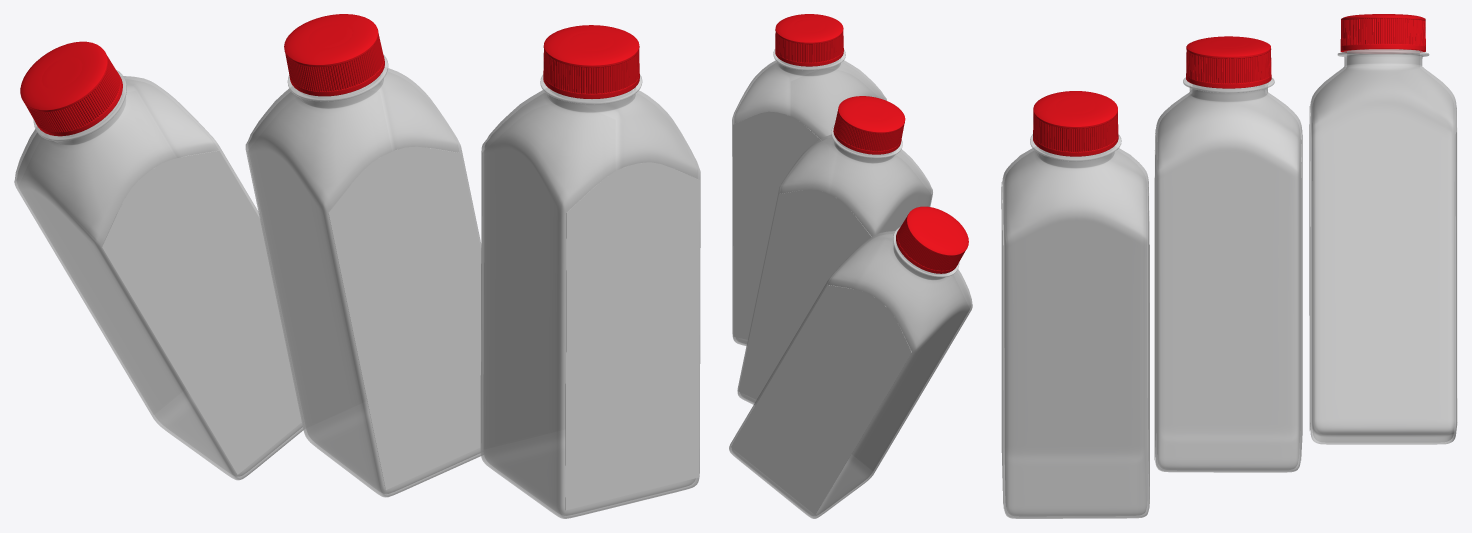
The model's file is Soft Drinks A-6.glb.
3 renders of one model, left to right at view 1: azimuth 30°, elevation 25°; view 2: azimuth 150°, elevation 25°; view 3: azimuth 270°, elevation 25°, orthographic. The views are drawn at different scales.
Parts seen in each view (by area): view 1: Bottle_BottlePlastic_0.003, Plane.004, Plane, Bottle_BottlePlastic_0.001, Plane.002, Bottle_BottlePlastic_0.002, ManiPiece_Bottle2CapArnold_0.001, ManiPiece_Bottle2CapArnold_0, ManiPiece_Bottle2CapArnold_0.002, pCube117_Bottle2CapArnold_0.002, pCube117_Bottle2CapArnold_0, pCube117_Bottle2CapArnold_0.001; view 2: Plane.002, Bottle_BottlePlastic_0.002, Plane, Plane.004, Bottle_BottlePlastic_0.001, Bottle_BottlePlastic_0.003, ManiPiece_Bottle2CapArnold_0.001, ManiPiece_Bottle2CapArnold_0, ManiPiece_Bottle2CapArnold_0.002, pCube117_Bottle2CapArnold_0.002, pCube117_Bottle2CapArnold_0, pCube117_Bottle2CapArnold_0.001; view 3: Bottle_BottlePlastic_0.002, Bottle_BottlePlastic_0.001, Bottle_BottlePlastic_0.003, ManiPiece_Bottle2CapArnold_0.002, pCube117_Bottle2CapArnold_0.001, pCube117_Bottle2CapArnold_0, ManiPiece_Bottle2CapArnold_0, pCube117_Bottle2CapArnold_0.002, Plane.004, Plane.002, Plane, ManiPiece_Bottle2CapArnold_0.001.
Part boxes in pixels (left/top/right/bottom): Bottle_BottlePlastic_0.003: left=480, top=74, right=700, bottom=518; Plane.004: left=482, top=152, right=699, bottom=510; Plane: left=248, top=146, right=481, bottom=489; Bottle_BottlePlastic_0.001: left=245, top=54, right=483, bottom=497; Plane.002: left=20, top=150, right=302, bottom=474; Bottle_BottlePlastic_0.002: left=14, top=70, right=303, bottom=480; ManiPiece_Bottle2CapArnold_0.001: left=20, top=41, right=122, bottom=136; ManiPiece_Bottle2CapArnold_0: left=284, top=14, right=384, bottom=96; ManiPiece_Bottle2CapArnold_0.002: left=543, top=25, right=639, bottom=98; pCube117_Bottle2CapArnold_0.002: left=543, top=50, right=639, bottom=93; pCube117_Bottle2CapArnold_0: left=285, top=34, right=383, bottom=91; pCube117_Bottle2CapArnold_0.001: left=25, top=56, right=120, bottom=132; Plane.002: left=731, top=285, right=911, bottom=514; Bottle_BottlePlastic_0.002: left=729, top=226, right=972, bottom=518; Plane: left=738, top=189, right=931, bottom=399; Plane.004: left=733, top=111, right=821, bottom=339; Bottle_BottlePlastic_0.001: left=737, top=125, right=932, bottom=404; Bottle_BottlePlastic_0.003: left=732, top=49, right=886, bottom=345; ManiPiece_Bottle2CapArnold_0.001: left=896, top=206, right=968, bottom=273; ManiPiece_Bottle2CapArnold_0: left=833, top=96, right=905, bottom=154; ManiPiece_Bottle2CapArnold_0.002: left=775, top=14, right=843, bottom=66; pCube117_Bottle2CapArnold_0.002: left=775, top=32, right=843, bottom=62; pCube117_Bottle2CapArnold_0: left=834, top=111, right=904, bottom=151; pCube117_Bottle2CapArnold_0.001: left=897, top=217, right=964, bottom=270; Bottle_BottlePlastic_0.002: left=1310, top=49, right=1456, bottom=444; Bottle_BottlePlastic_0.001: left=1155, top=77, right=1301, bottom=472; Bottle_BottlePlastic_0.003: left=1002, top=134, right=1149, bottom=518; ManiPiece_Bottle2CapArnold_0.002: left=1033, top=91, right=1118, bottom=156; pCube117_Bottle2CapArnold_0.001: left=1340, top=18, right=1425, bottom=46; pCube117_Bottle2CapArnold_0: left=1186, top=50, right=1271, bottom=83; ManiPiece_Bottle2CapArnold_0: left=1186, top=36, right=1271, bottom=88; pCube117_Bottle2CapArnold_0.002: left=1033, top=112, right=1118, bottom=152; Plane.004: left=1001, top=181, right=1149, bottom=508; Plane.002: left=1309, top=106, right=1457, bottom=430; Plane: left=1154, top=129, right=1302, bottom=460; ManiPiece_Bottle2CapArnold_0.001: left=1340, top=14, right=1425, bottom=52.
Bounding box in the file's own units: 5.72 × 5.75 × 5.52.
